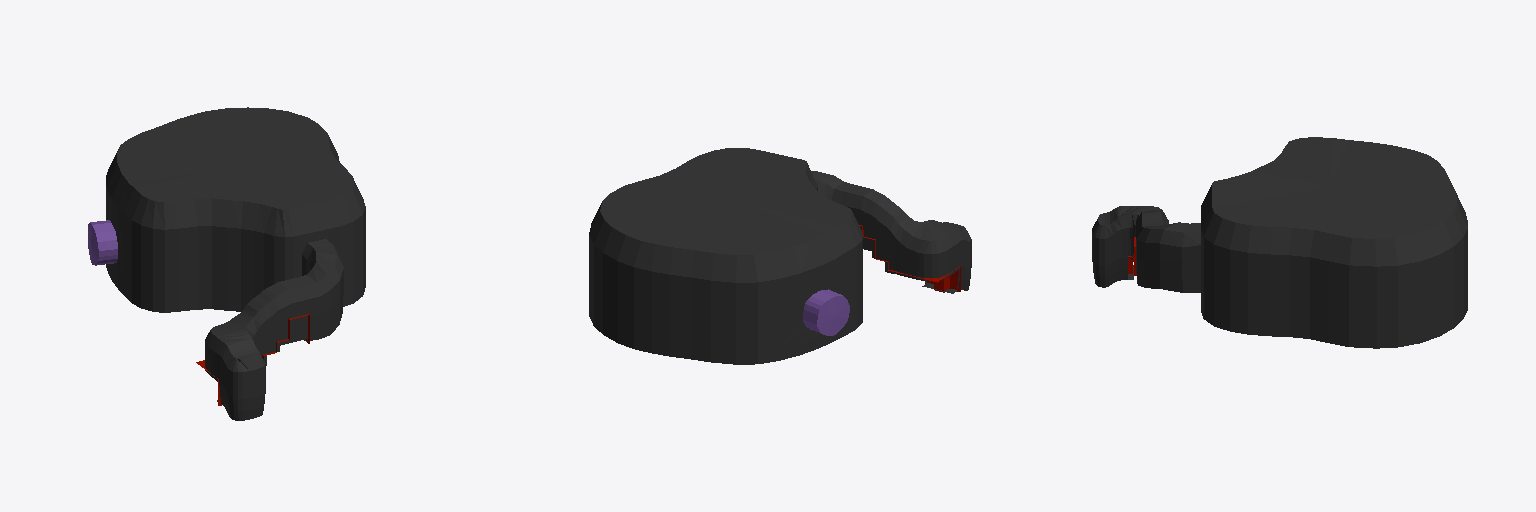
Rendered from LavaCaveB.obj.
3 views of the same model, side by side, from view 1: azimuth 30°, elevation 25°; view 2: azimuth 150°, elevation 25°; view 3: azimuth 270°, elevation 25° (orthographic).
Parts seen in each view (by area): view 1: LavaCaveB_Collision; view 2: LavaCaveB_Collision; view 3: LavaCaveB_Collision.
Part boxes in pixels (x1,y1,x2,y2): LavaCaveB_Collision: (88,107,365,420); LavaCaveB_Collision: (589,148,971,364); LavaCaveB_Collision: (1092,137,1467,348).
Size of the model in its own units: 13115 by 7510 by 17842.